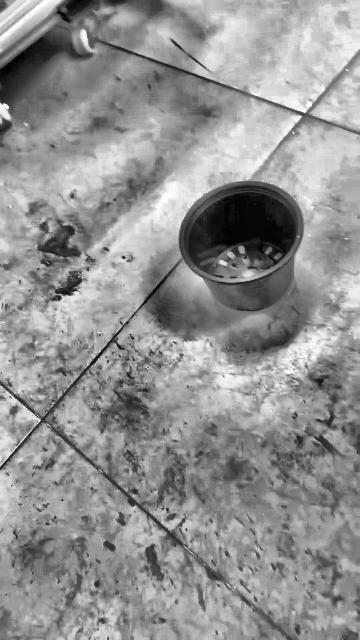pot: (179, 182, 303, 311)
